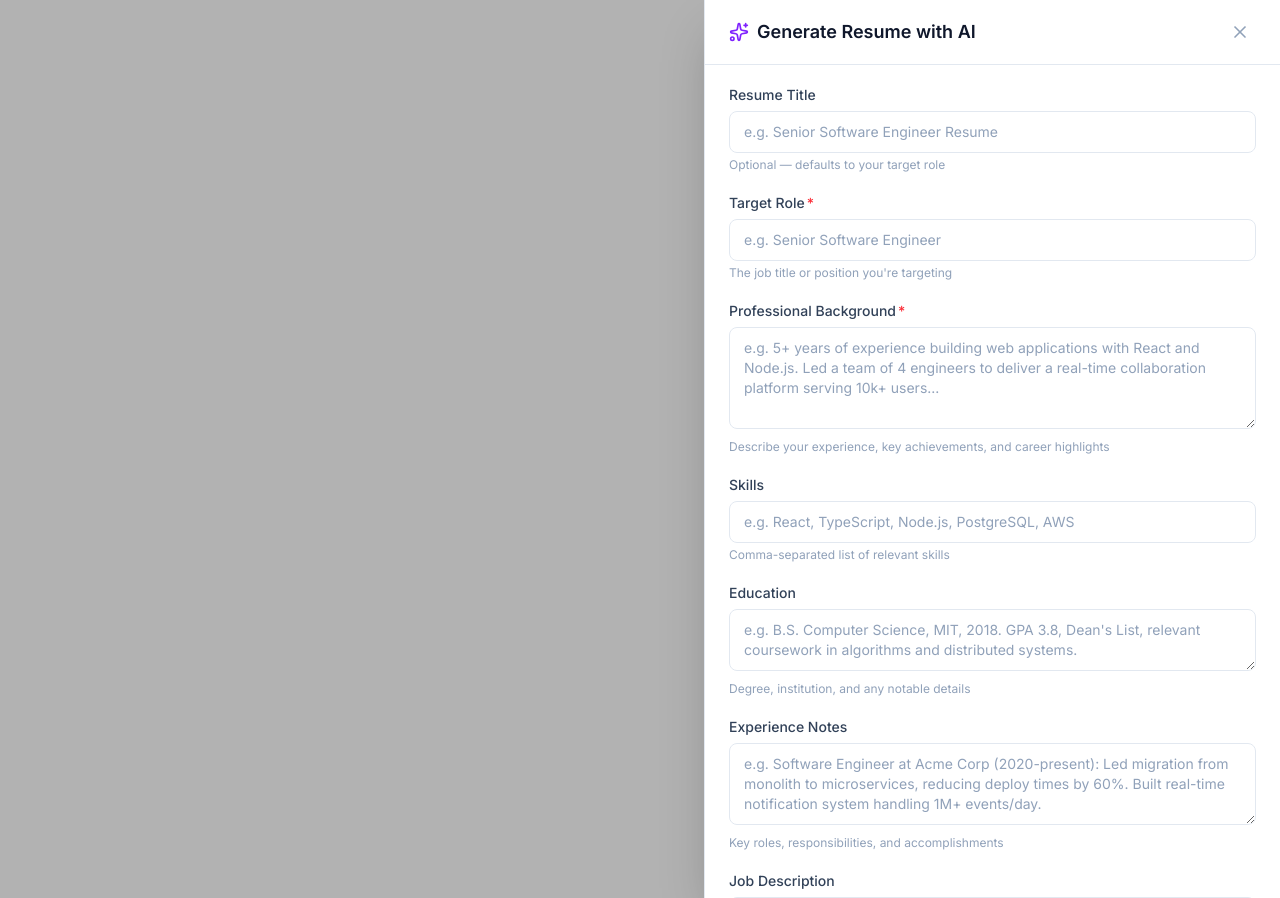
Test: 12. Malformed output is rejected safely › shows error for invalid provider response
The image size is (1280, 898).
Type "Engineer" into the field labelled "Target Role*" at (992, 240), box x1=729 y1=219 x2=1256 y2=261
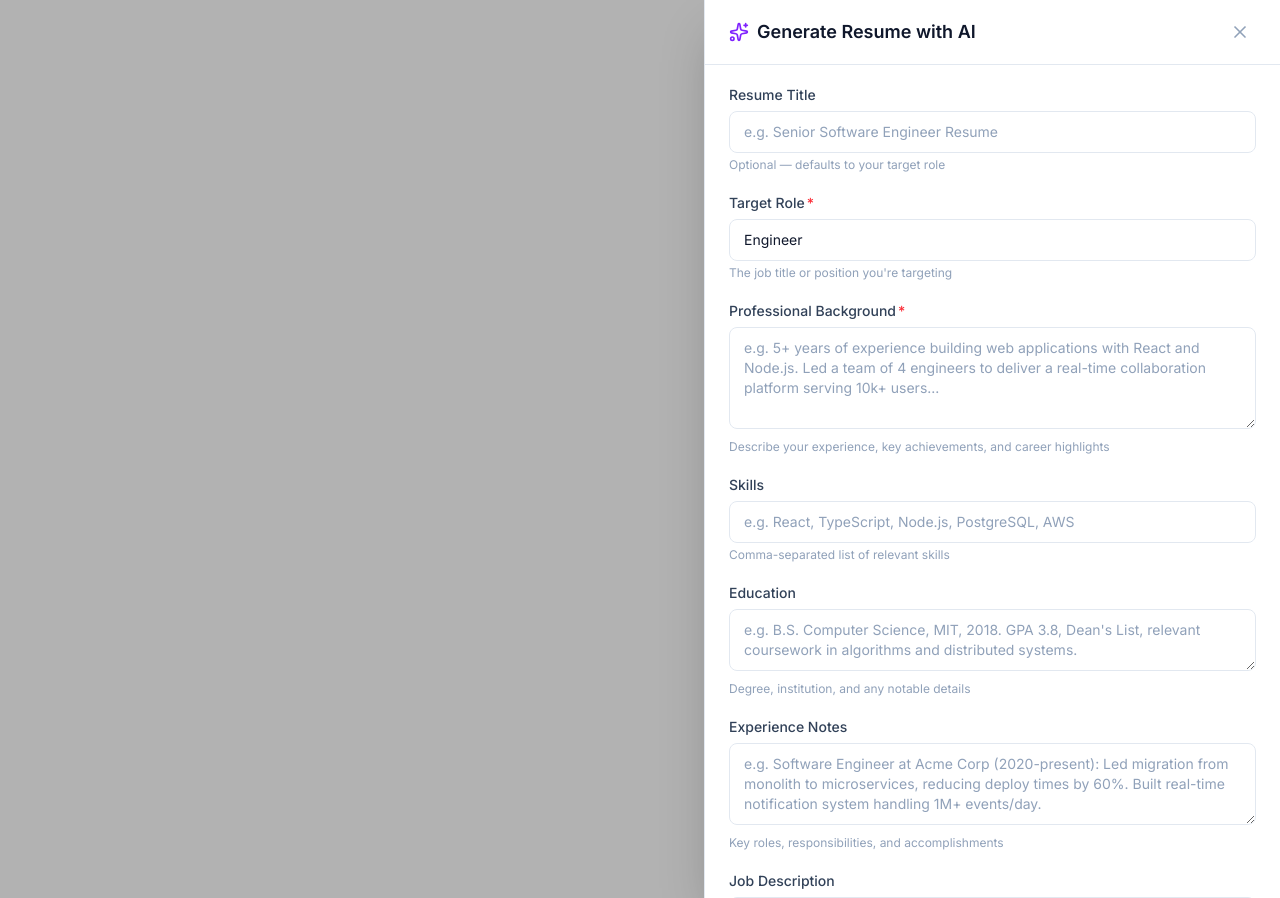
Replace the text in the text box labelled "Professional Background*" with "Experience" at (992, 378), box x1=729 y1=327 x2=1256 y2=429
(page scrolled)
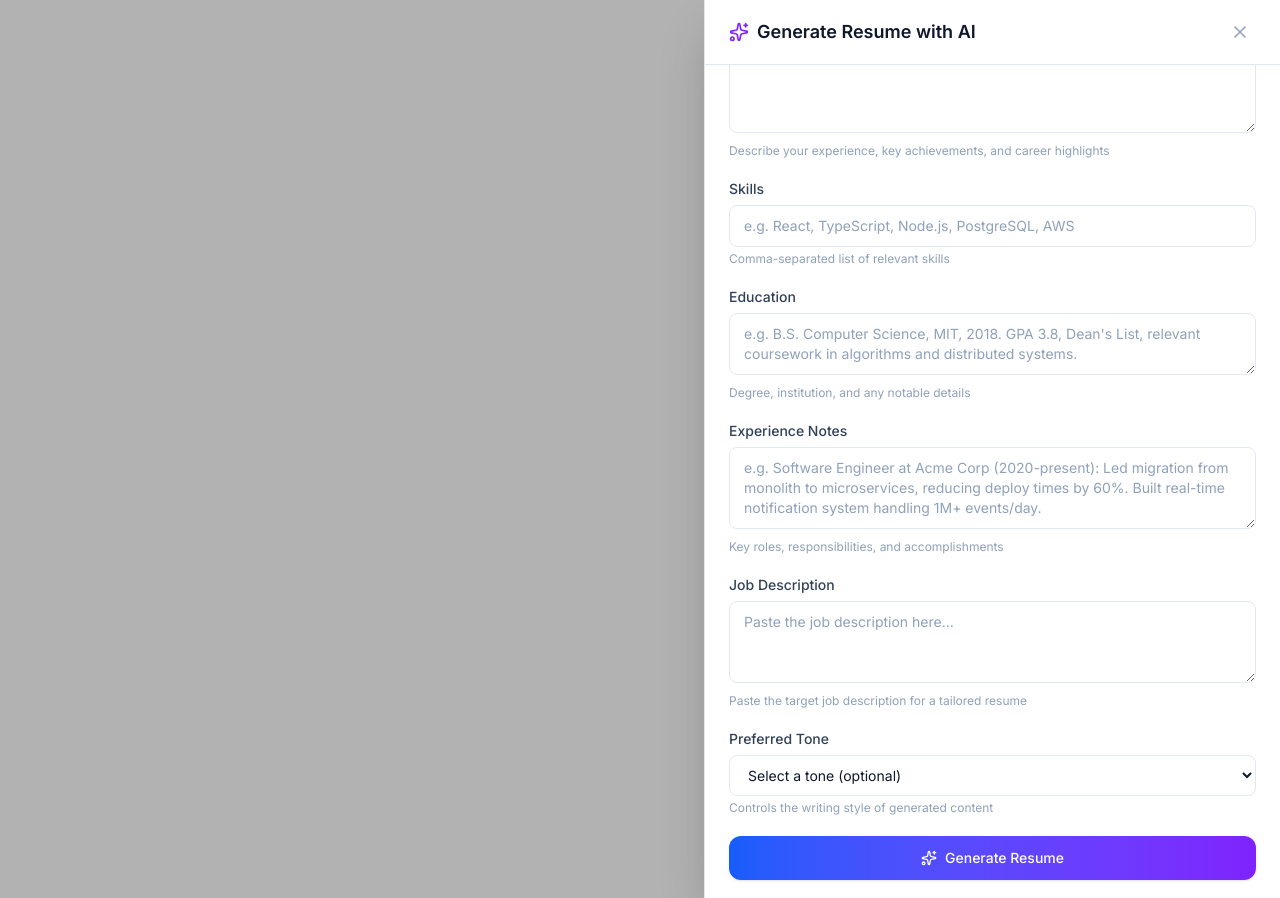
Click the button "Generate Resume" at (992, 858), box x1=729 y1=836 x2=1256 y2=880
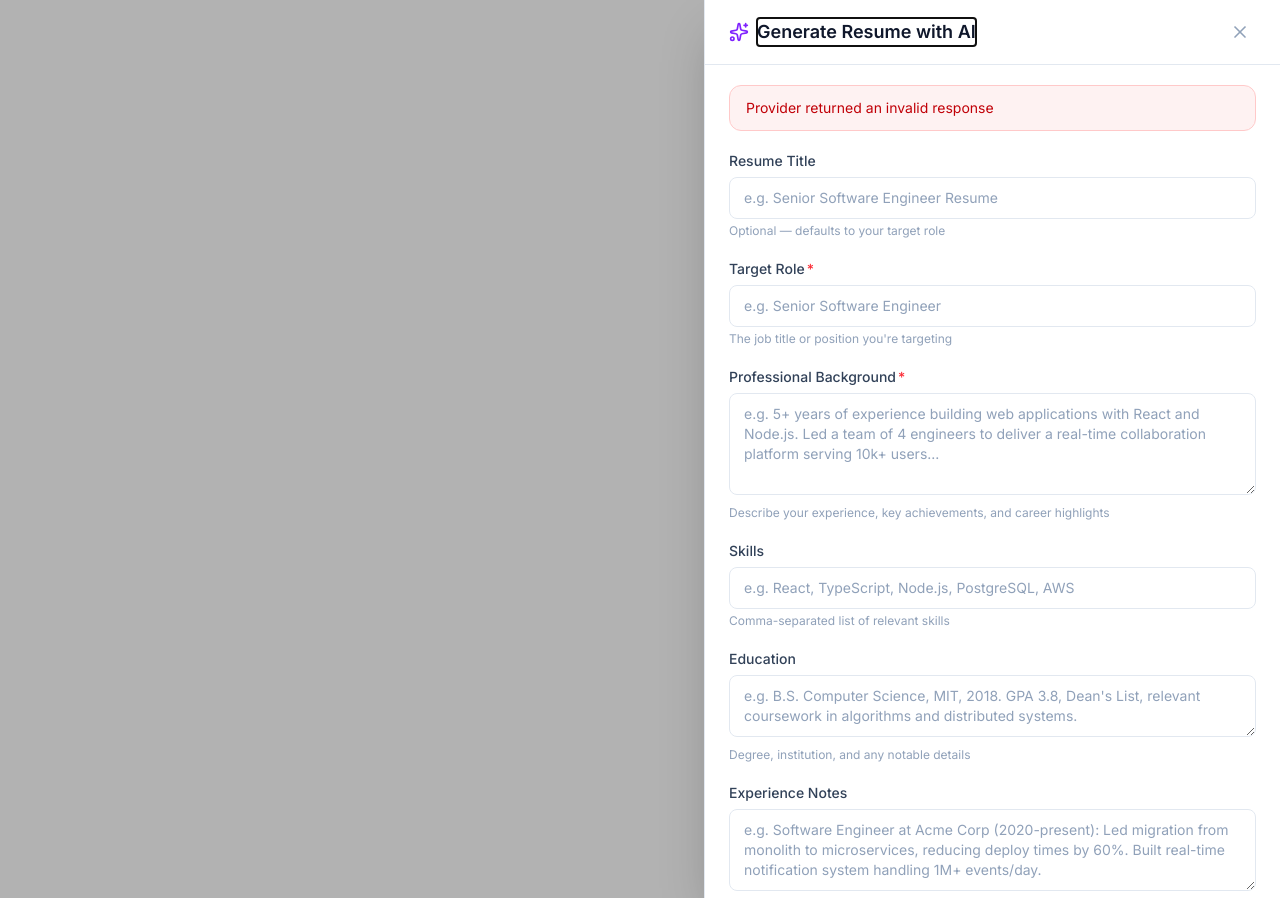
expect the text "Provider returned an invalid response" is shown: met, box x1=729 y1=85 x2=1256 y2=131
